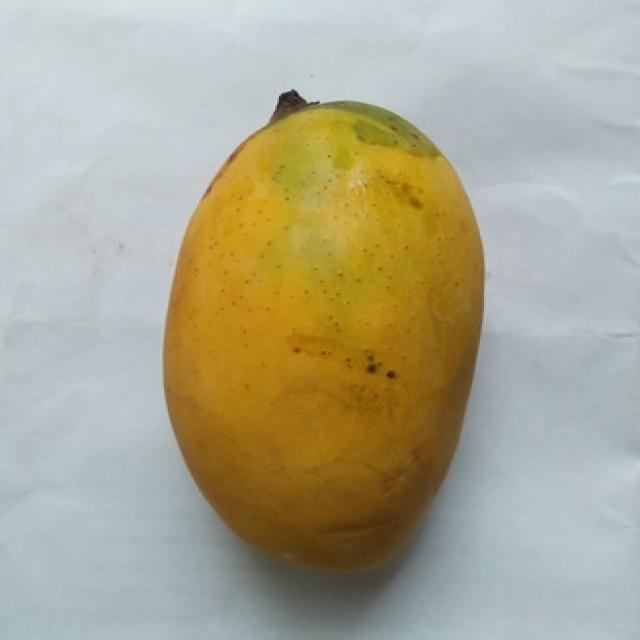Mango: (164, 102, 480, 567)
